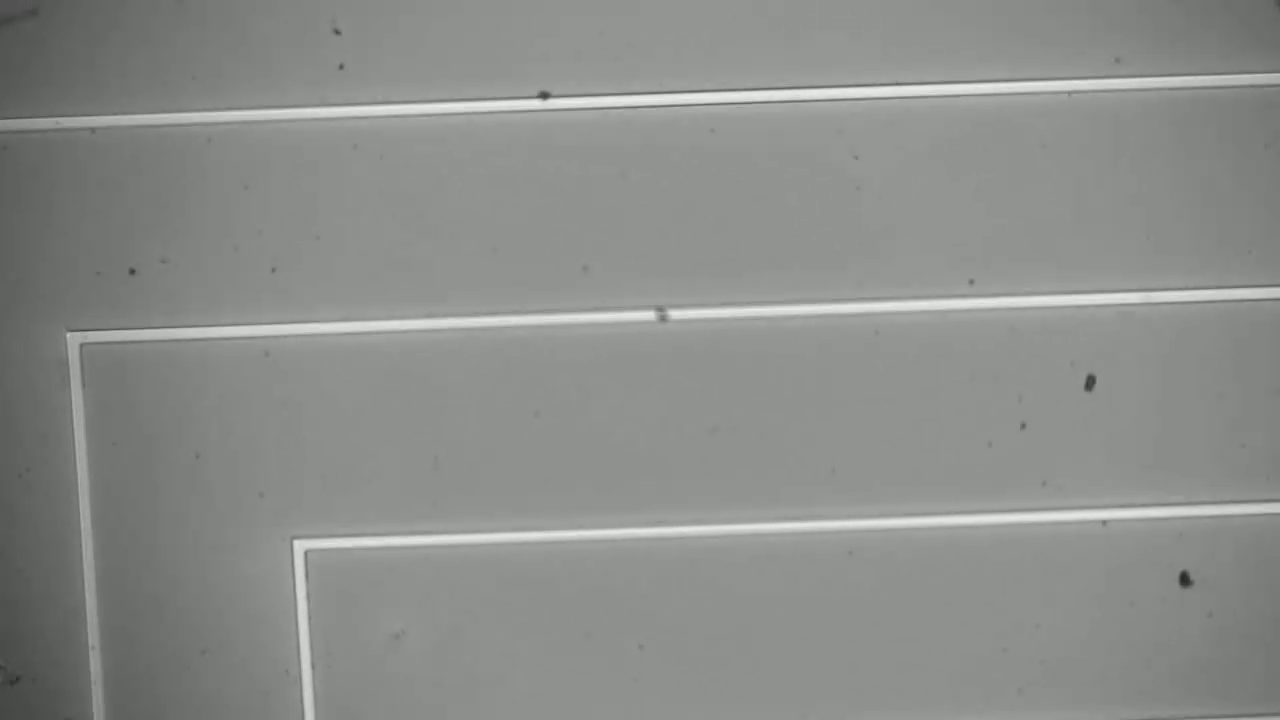stains_enbedded: (651, 301, 675, 330)
